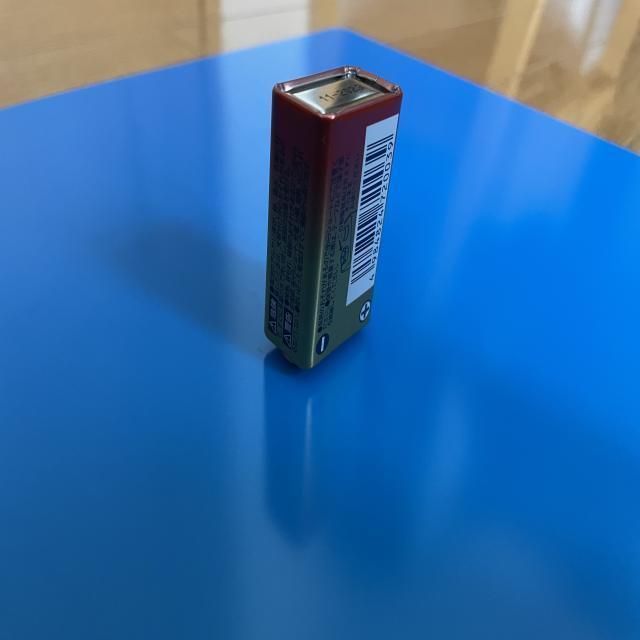9V: (264, 65, 403, 370)
